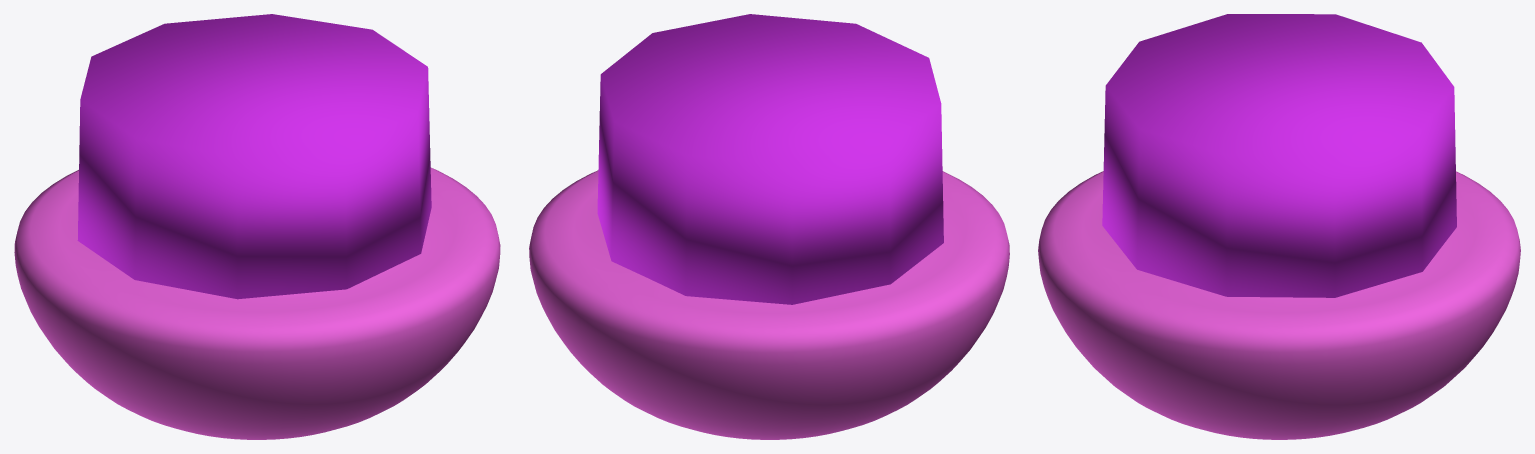
The model's file is 원형의자.fbx.
3 views of the same model, side by side, from view 1: azimuth 30°, elevation 25°; view 2: azimuth 150°, elevation 25°; view 3: azimuth 270°, elevation 25° (orthographic).
Visible parts, largest first — view 1: 원형, 구체.001; view 2: 원형, 구체.001; view 3: 원형, 구체.001.
Part boxes in pixels (bbox=[...]): 원형: bbox=[77, 14, 431, 299]; 구체.001: bbox=[14, 167, 500, 439]; 원형: bbox=[597, 14, 943, 304]; 구체.001: bbox=[529, 170, 1009, 439]; 원형: bbox=[1102, 14, 1456, 297]; 구체.001: bbox=[1038, 171, 1520, 439].
Bounding box in the file's own units: 433 × 320 × 433.
